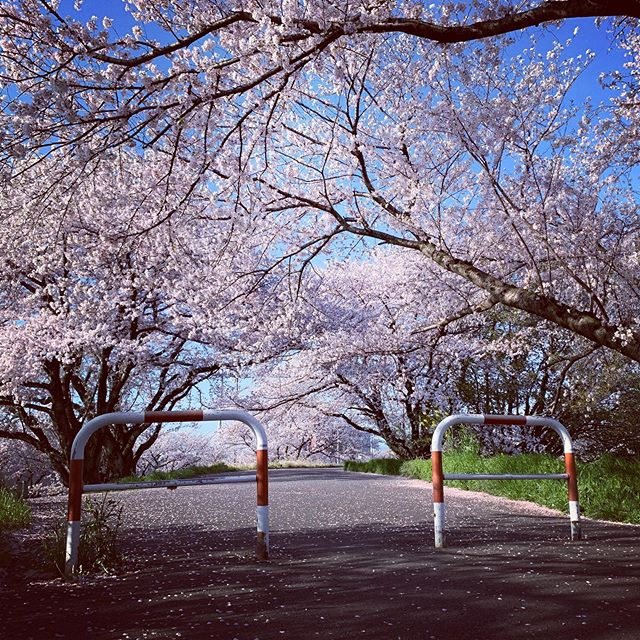flowers: (1, 1, 631, 384)
street: (1, 464, 640, 640)
